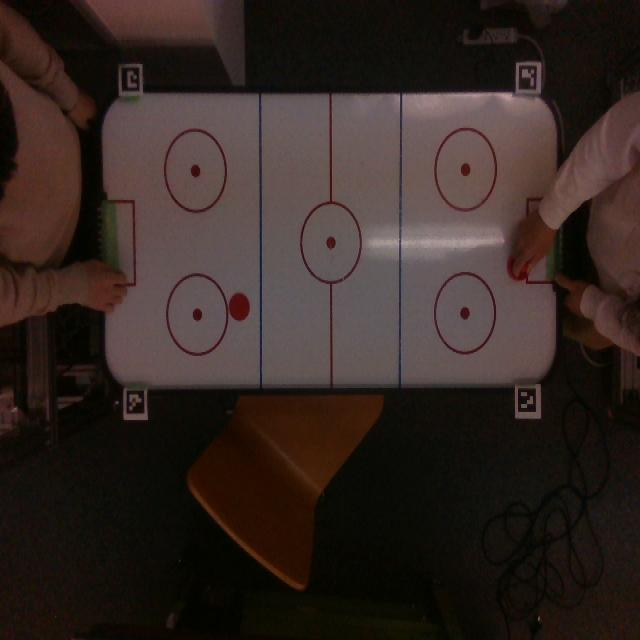puck: (229, 293, 250, 322)
